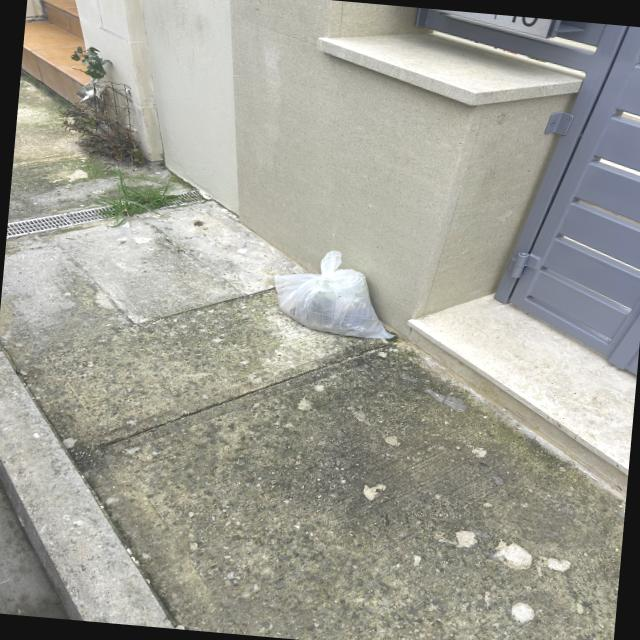white_bag: (265, 242, 404, 344)
